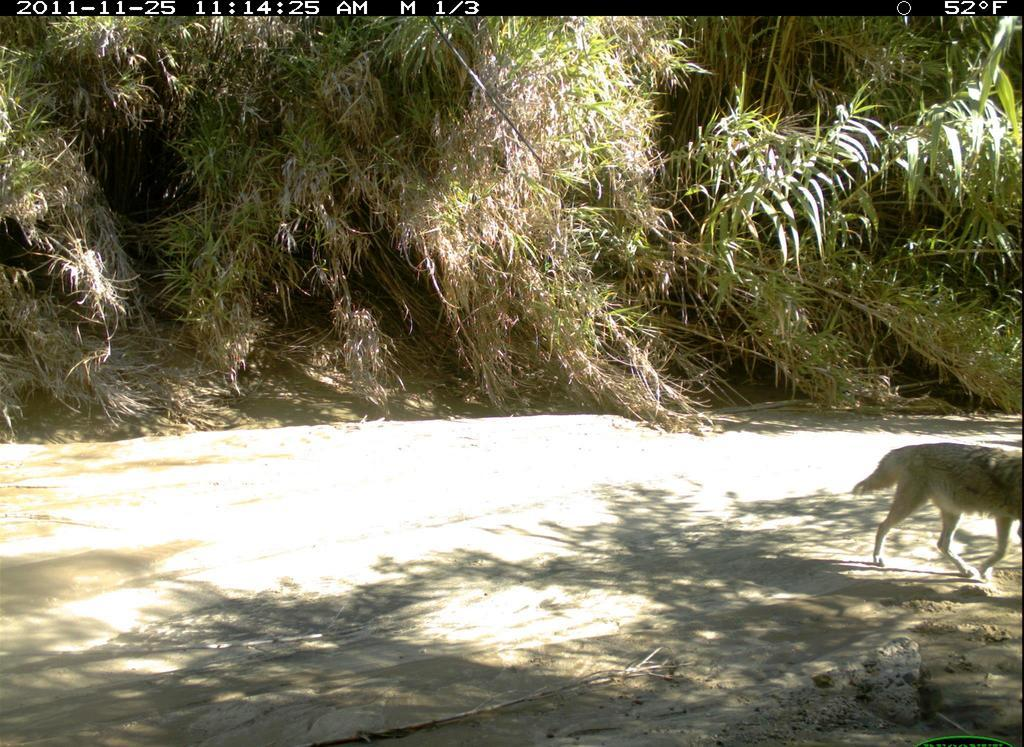coyote: (856, 438, 1023, 592)
